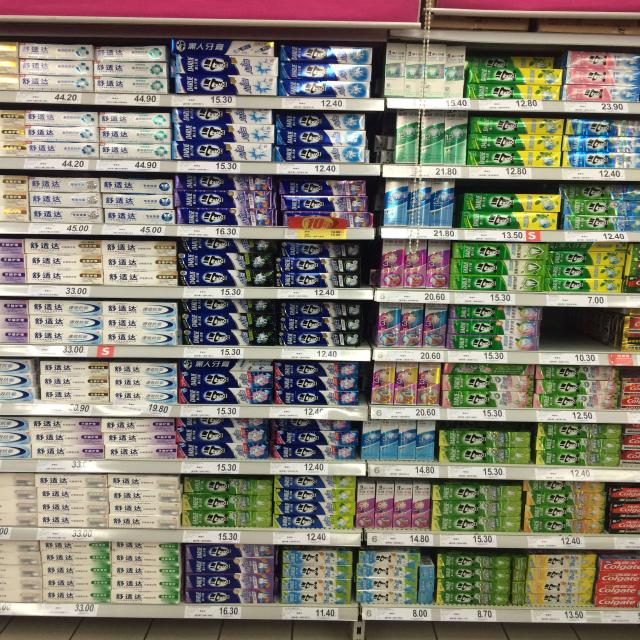void: (580, 304, 618, 367), (546, 306, 574, 366)
